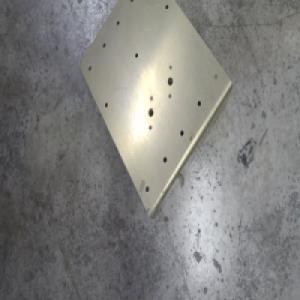MetalSheet: (78, 0, 236, 221)
